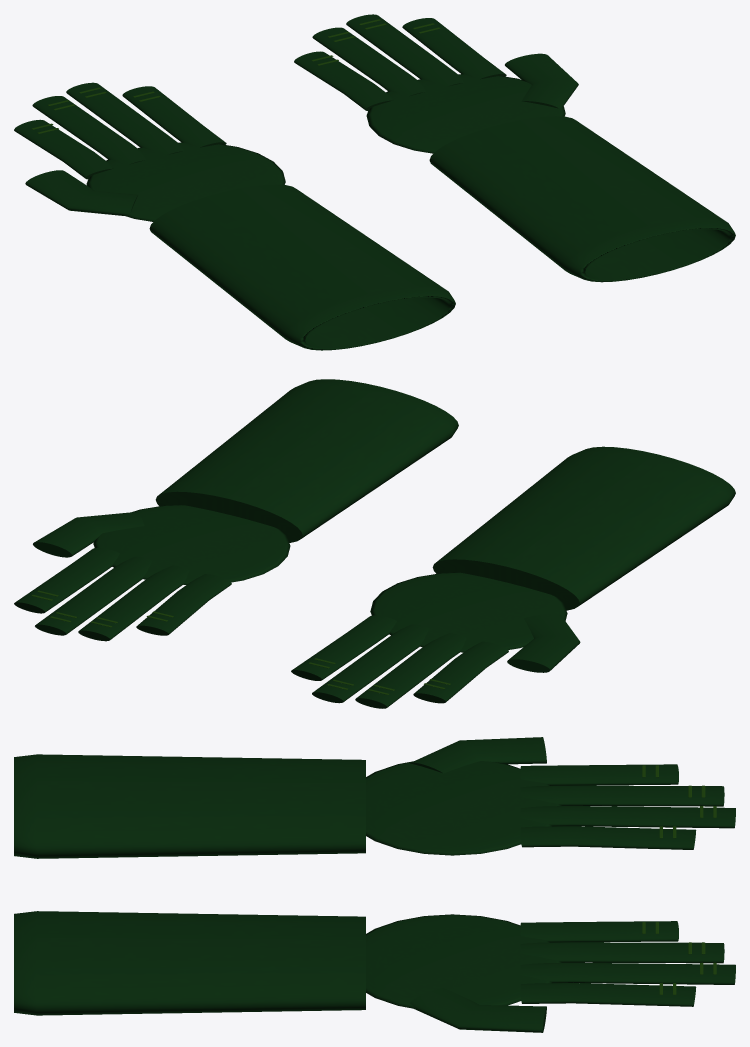
Rendered from ChemicalGloves.gltf.
3 renders of one model, top to bottom at view 1: azimuth 30°, elevation 25°; view 2: azimuth 150°, elevation 25°; view 3: azimuth 270°, elevation 25°, orthographic. The views are drawn at different scales.
Visible parts, largest first — view 1: ChemicalGloves__Body; view 2: ChemicalGloves__Body; view 3: ChemicalGloves__Body.
Boxes of the visible parts, x1,y1,x2,y2 form: ChemicalGloves__Body: [14, 14, 735, 350]; ChemicalGloves__Body: [14, 379, 735, 708]; ChemicalGloves__Body: [14, 737, 735, 1032].
Bounding box in the file's own units: 0.3332 × 0.0256 × 0.3472.
Materials: 1 (1 with a texture image).
